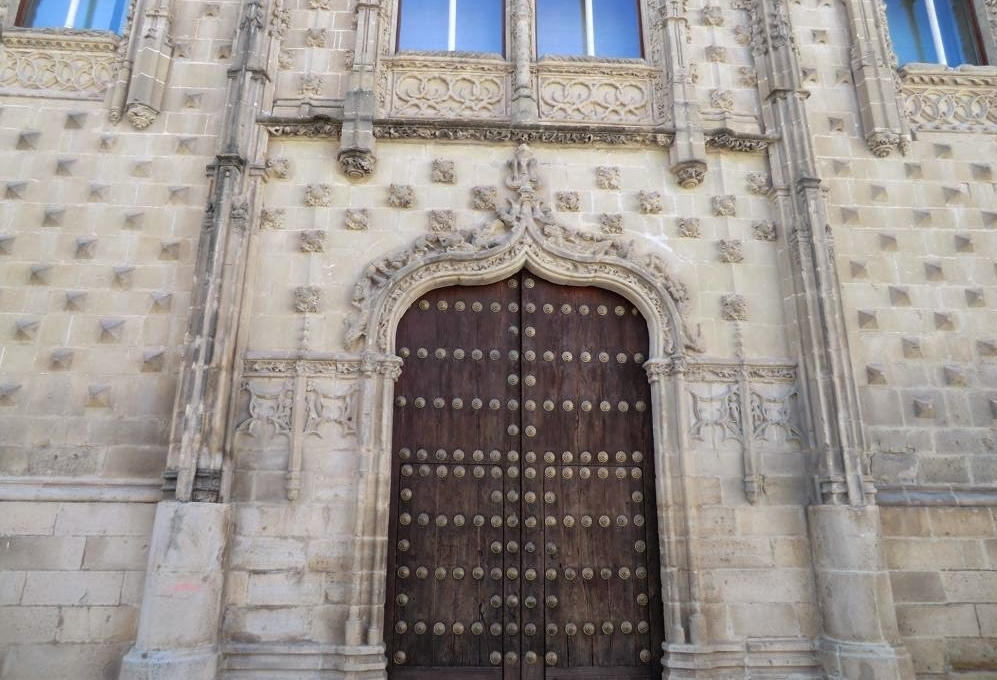arco-conopial: (365, 215, 665, 304)
